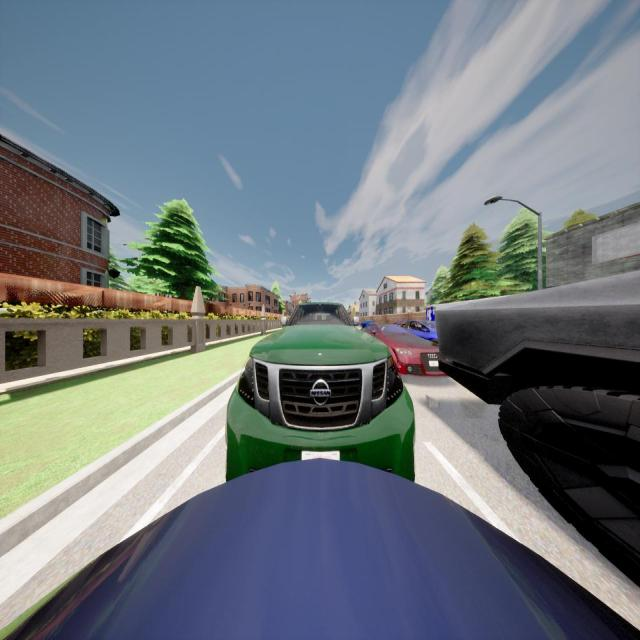Vehicle: (1, 457, 640, 640), (435, 272, 640, 577), (226, 302, 415, 480), (360, 322, 446, 378), (396, 320, 438, 344)
